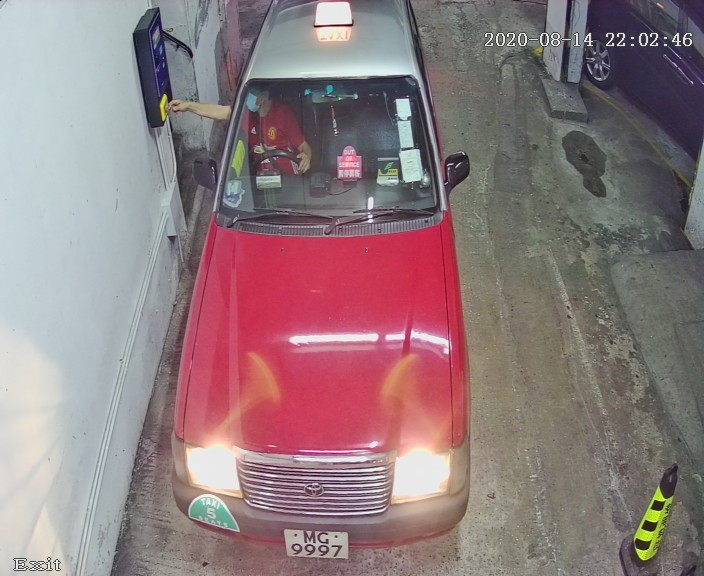taxi: (159, 3, 493, 569)
taxi_mark: (185, 488, 246, 541)
